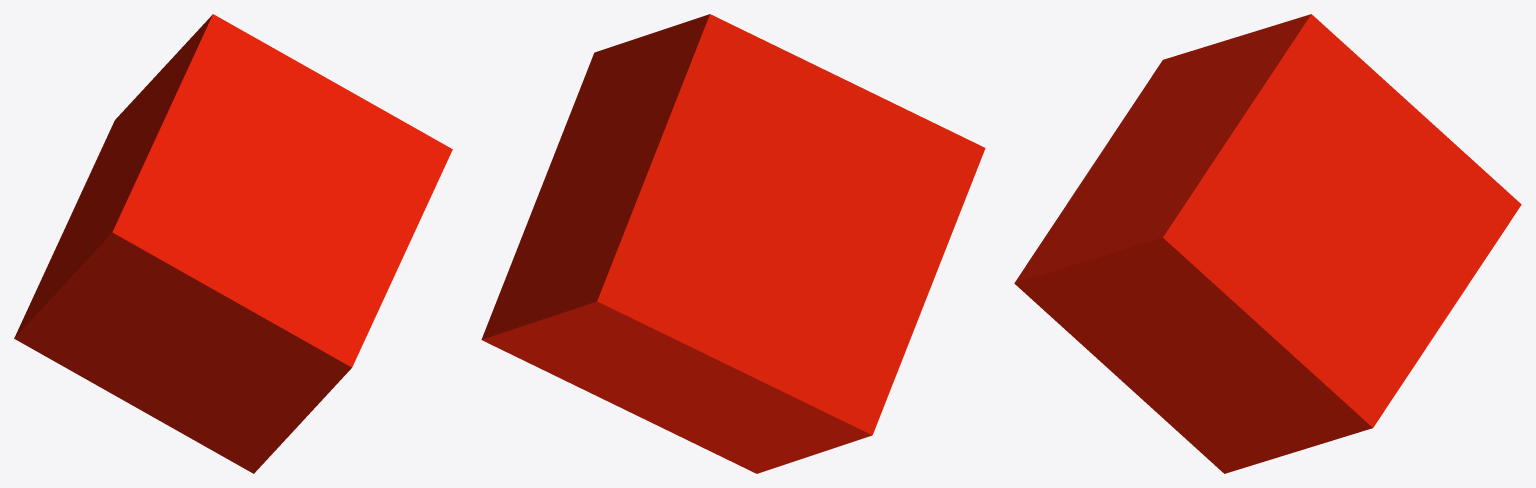
3 renders of one model, left to right at view 1: azimuth 30°, elevation 25°; view 2: azimuth 150°, elevation 25°; view 3: azimuth 270°, elevation 25°, orthographic. The views are drawn at different scales.
Parts seen in each view (by area): view 1: Cube.002; view 2: Cube.002; view 3: Cube.002.
Part boxes in pixels (box(x1,y1,x2,y2)): Cube.002: box(14, 14, 452, 473); Cube.002: box(481, 14, 985, 473); Cube.002: box(1014, 14, 1521, 473).
Bounding box in the file's own units: 2.83 × 3.41 × 3.41.
